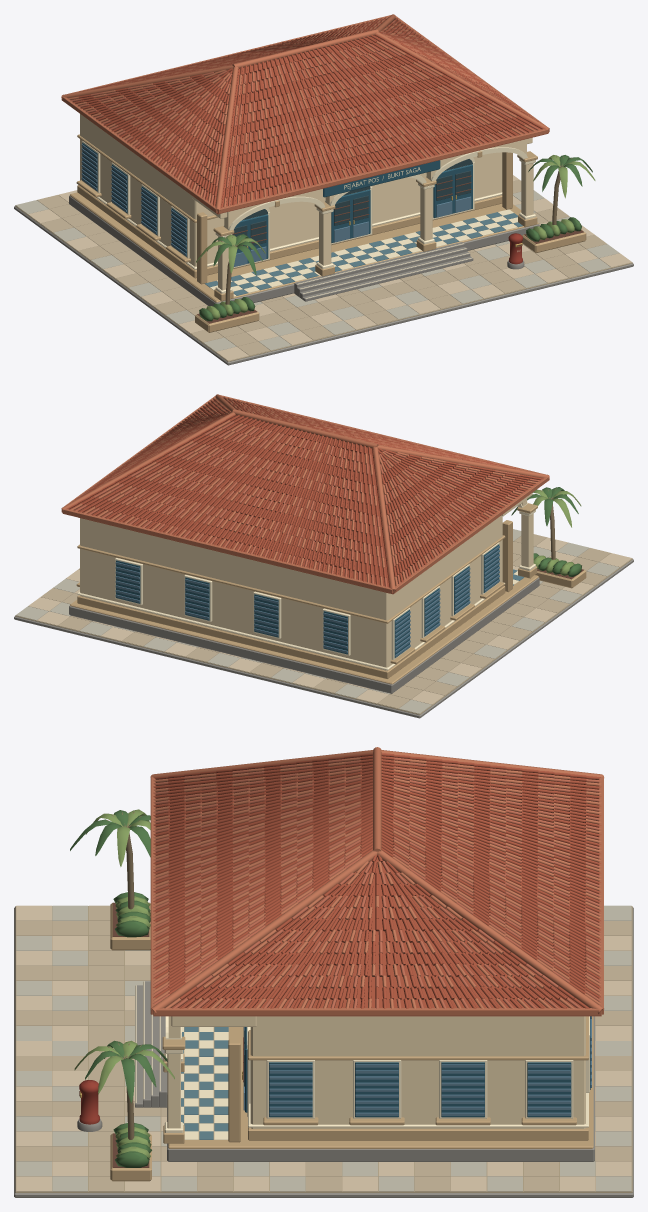
3 renders of one model, top to bottom at view 1: azimuth 30°, elevation 25°; view 2: azimuth 150°, elevation 25°; view 3: azimuth 270°, elevation 25°, orthographic. The views are drawn at different scales.
Parts seen in each view (by area): view 1: Hipped Clay Roof, Forecourt, Arcade and Stairs, Postal Hall, Postal Gardens, Postal Doors, Shutter Bays, Postal Sign and Box; view 2: Hipped Clay Roof, Postal Hall, Forecourt, Arcade and Stairs, Shutter Bays, Postal Gardens; view 3: Hipped Clay Roof, Forecourt, Postal Hall, Arcade and Stairs, Shutter Bays, Postal Gardens, Postal Sign and Box.
Part boxes in pixels (x1=…): Hipped Clay Roof: x1=61, y1=14, x2=549, y2=214; Forecourt: x1=14, y1=175, x2=633, y2=365; Arcade and Stairs: x1=69, y1=137, x2=539, y2=306; Postal Hall: x1=77, y1=114, x2=502, y2=278; Postal Gardens: x1=195, y1=155, x2=595, y2=332; Postal Doors: x1=232, y1=157, x2=474, y2=268; Shutter Bays: x1=76, y1=141, x2=190, y2=262; Postal Sign and Box: x1=323, y1=160, x2=524, y2=269; Hipped Clay Roof: x1=61, y1=394, x2=549, y2=594; Postal Hall: x1=77, y1=515, x2=505, y2=678; Forecourt: x1=14, y1=529, x2=633, y2=718; Arcade and Stairs: x1=69, y1=493, x2=539, y2=693; Shutter Bays: x1=76, y1=542, x2=504, y2=664; Postal Gardens: x1=511, y1=487, x2=586, y2=588; Hipped Clay Roof: x1=150, y1=747, x2=604, y2=1016; Forecourt: x1=14, y1=905, x2=633, y2=1197; Postal Hall: x1=248, y1=1016, x2=588, y2=1140; Arcade and Stairs: x1=135, y1=981, x2=594, y2=1161; Shutter Bays: x1=263, y1=1016, x2=591, y2=1125; Postal Gardens: x1=70, y1=809, x2=174, y2=1181; Postal Sign and Box: x1=77, y1=1080, x2=102, y2=1131.
Size of the model in its own units: 22.8 by 9.52 by 20.8.
